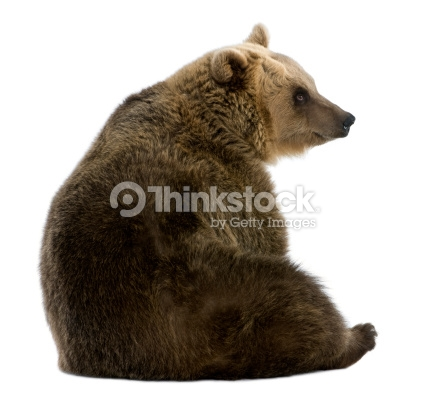bear: (40, 24, 379, 381)
